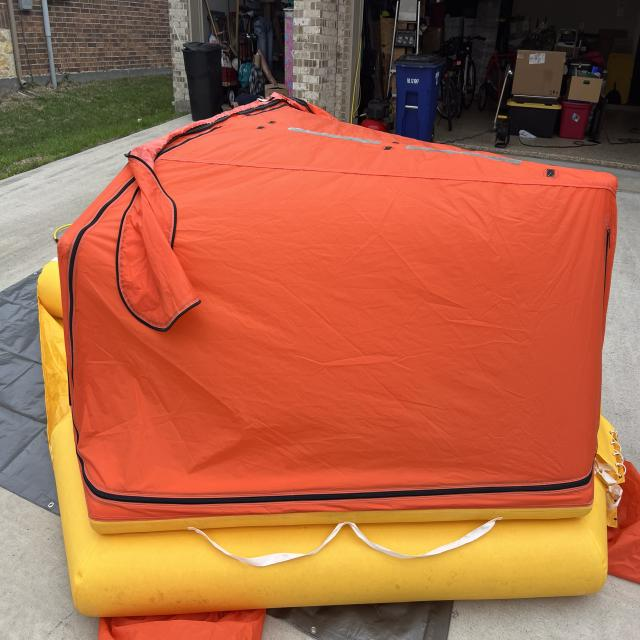Multi-person_life_raft: (37, 92, 640, 639)
